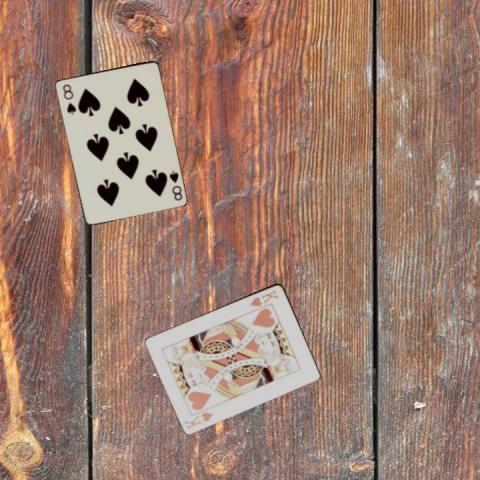8s: (59, 81, 77, 116), (166, 168, 183, 202)
Kh: (181, 409, 215, 430), (247, 287, 280, 308)
